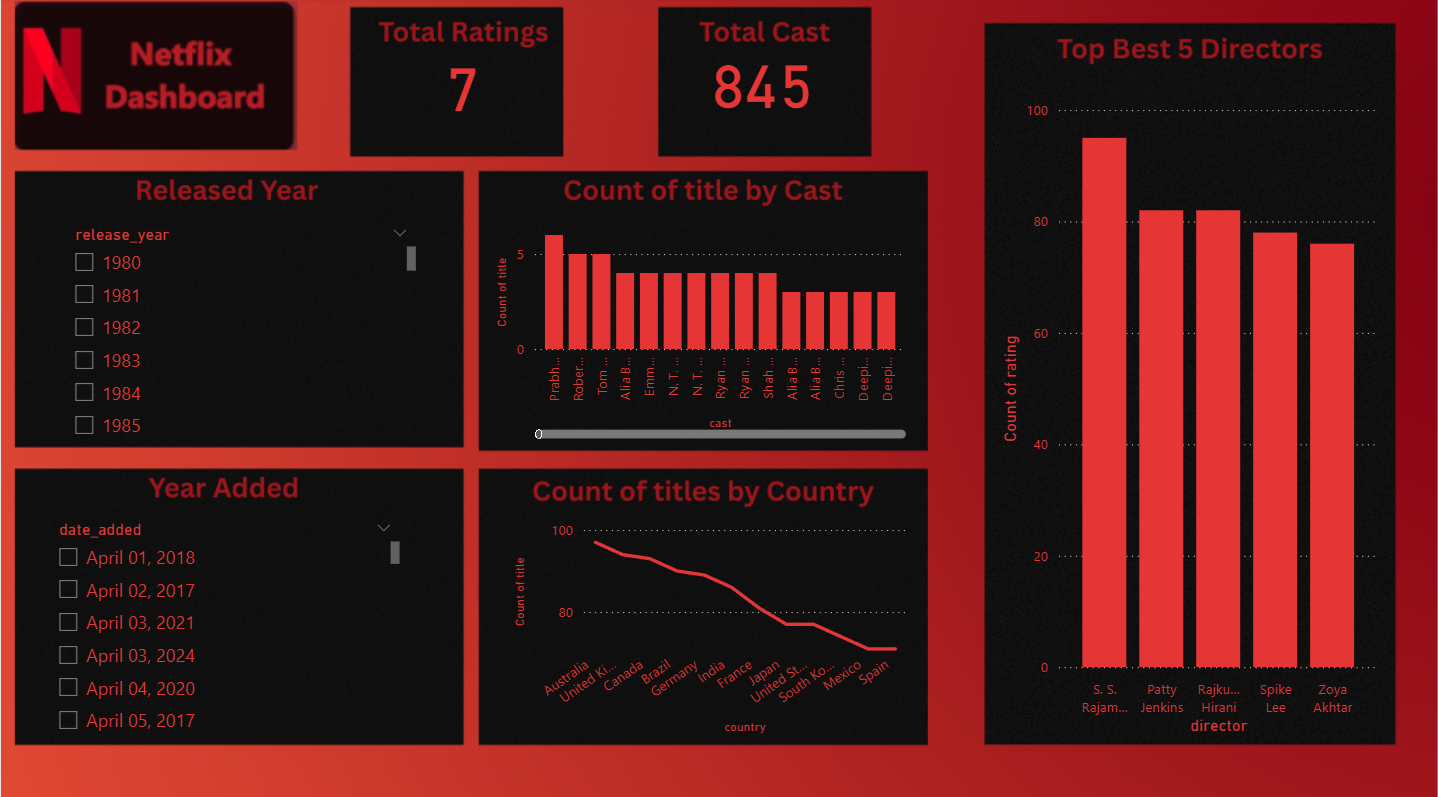

The dashboard page shown, as its layout file describes it:
{"tool":"powerbi","page":{"name":"Page 2","canvas":[1280,720],"ordinal":1},"visuals":[{"type":"slicer","fields":{"Values":["netflix netflix_data.release_year"]},"box":[53.5,197.6,321.1,200.3],"z":0},{"type":"slicer","fields":{"Values":["netflix netflix_data.date_added"]},"box":[38.4,461.1,321.1,200.3],"z":1000},{"type":"columnChart","fields":{"Category":["netflix netflix_data.cast"],"Y":["netflix netflix_data.title"]},"box":[436.4,197.6,374.6,200.3],"z":1001},{"type":"lineChart","fields":{"Category":["netflix netflix_data.country"],"Y":["netflix netflix_data.title"]},"box":[451.5,461.1,359.5,200.3],"z":1002},{"type":"columnChart","fields":{"Category":["netflix netflix_data.director"],"Y":["netflix netflix_data.rating"]},"box":[886.5,86.4,345.8,575],"z":1003},{"type":"card","fields":{"Values":["netflix netflix_data.rating"]},"box":[330.7,56.3,160.5,59],"z":1004},{"type":"card","fields":{"Values":["netflix netflix_data.cast"]},"box":[613.4,54.9,130.4,59],"z":1005}]}

Visuals, with their boxes in screenshot pixels (x1, y1, x2, y2), scaled from the page's 1280x720 canvas onto the 1438x797 screenshot:
slicer - netflix netflix_data.release_year: x1=60, y1=219, x2=421, y2=440
slicer - netflix netflix_data.date_added: x1=43, y1=510, x2=404, y2=732
columnChart - netflix netflix_data.cast x netflix netflix_data.title: x1=490, y1=219, x2=911, y2=440
lineChart - netflix netflix_data.country x netflix netflix_data.title: x1=507, y1=510, x2=911, y2=732
columnChart - netflix netflix_data.director x netflix netflix_data.rating: x1=996, y1=96, x2=1384, y2=732
card - netflix netflix_data.rating: x1=372, y1=62, x2=552, y2=128
card - netflix netflix_data.cast: x1=689, y1=61, x2=836, y2=126
